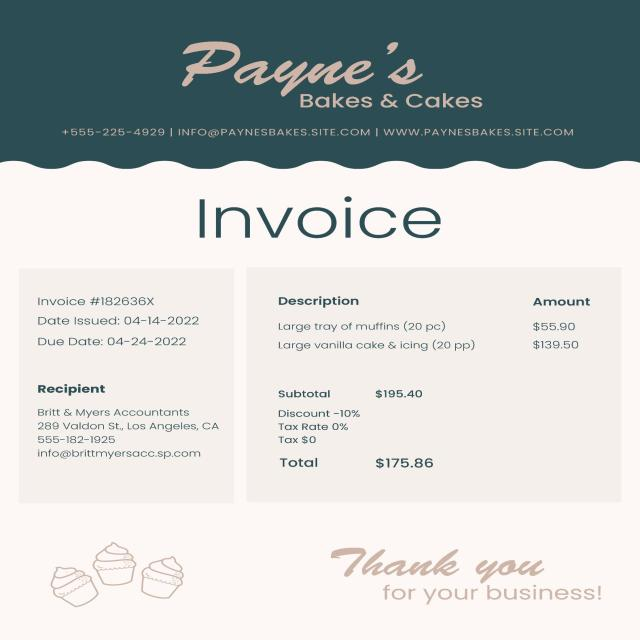paragraph: (178, 26, 529, 116), (266, 281, 612, 365), (265, 373, 489, 485), (328, 533, 613, 610), (25, 372, 231, 473), (186, 183, 448, 255), (25, 286, 218, 362), (45, 121, 586, 142)
